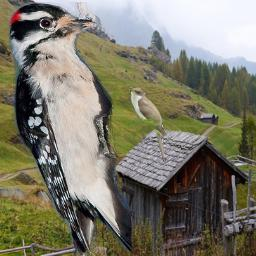Cuckoo: (125, 85, 168, 165)
Woodpecker: (8, 2, 132, 256)
